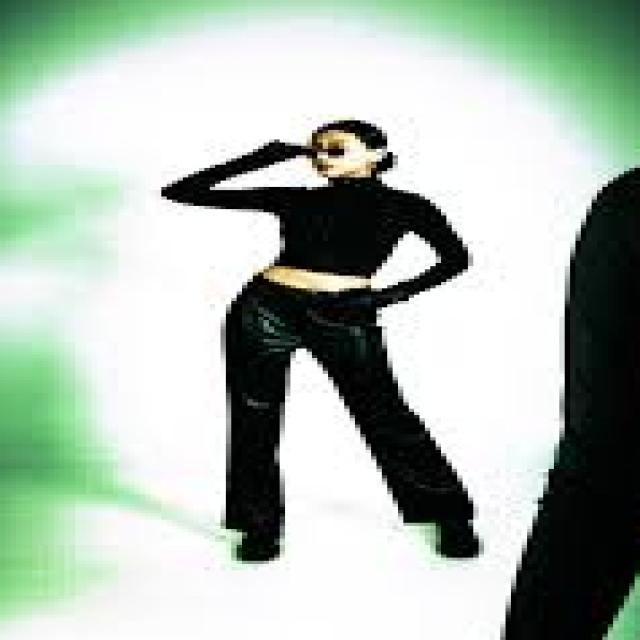Edited images: (140, 103, 491, 575)
